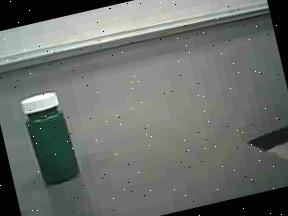Bottle C: (7, 80, 96, 202)
